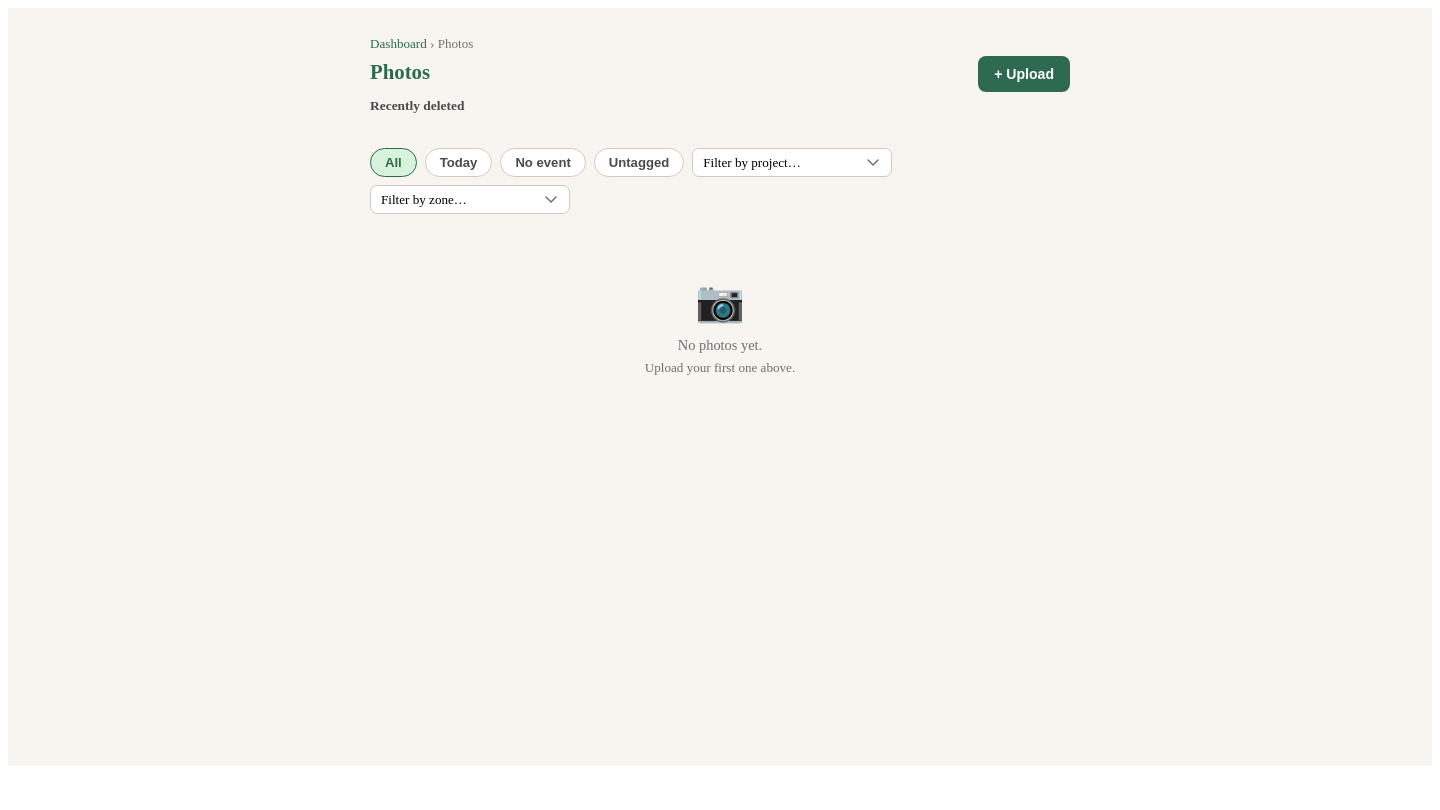
it: PhotoLibrary — V2-PHOTO-F1 S2 refactor › renders header and toggles the upload form open
What coordinates should you click on to do the following:
click the button "+ Upload"
I would click on:
 (1024, 74)
Its box is left=978, top=56, right=1070, bottom=92.
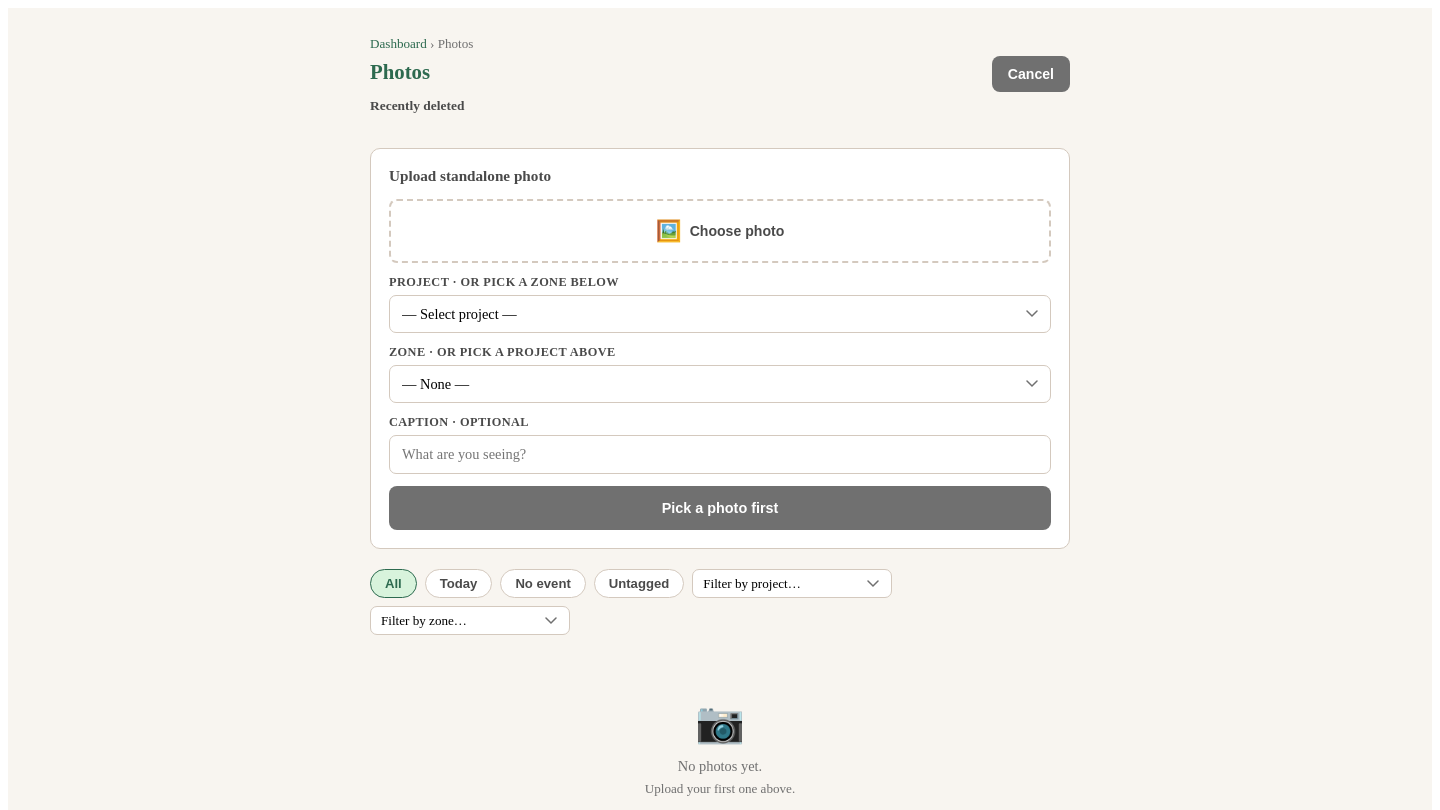
Now the element with test id "photo-library-upload-form" is shown, box left=389, top=199, right=1051, bottom=530
Now the button with test id "pl-stage-choose" is shown, box left=389, top=199, right=1051, bottom=263
